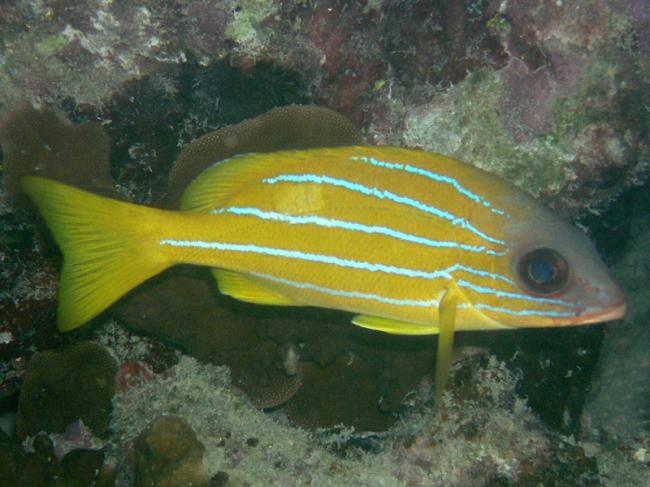fish: (20, 145, 627, 334)
